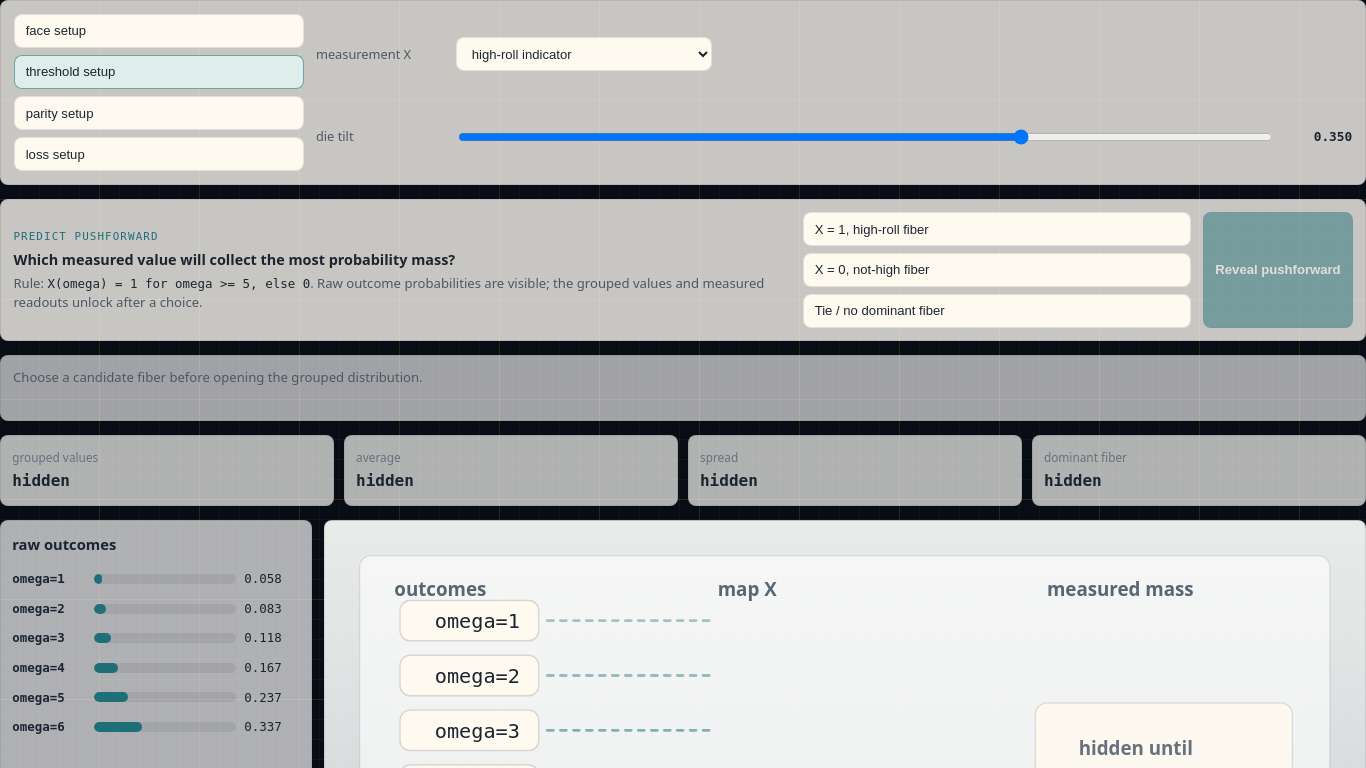
it: RandomVariablesViz prediction reveal › resets the reveal when the measurement setup changes
Click the button "X = 1, high-roll fiber" at coordinates (872, 229), box left=803, top=212, right=1192, bottom=246
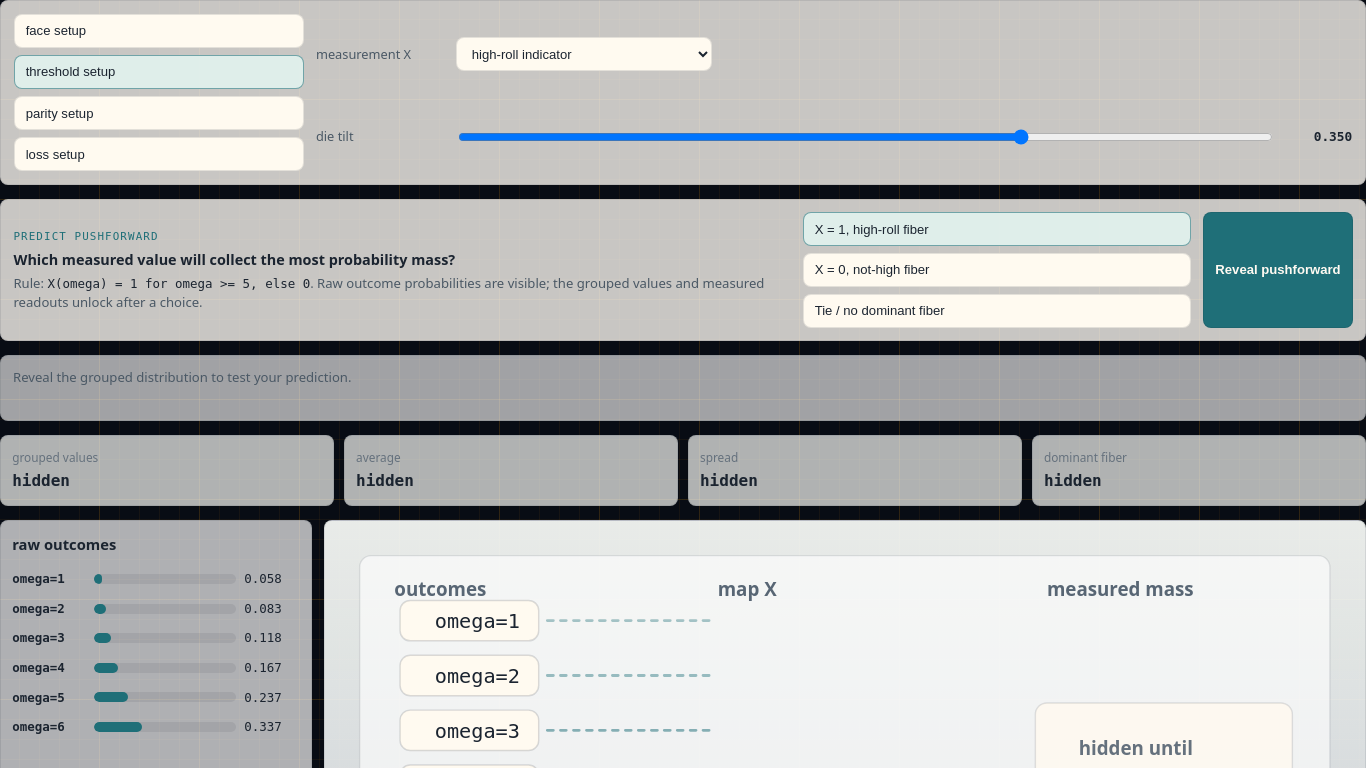
Click the button "Reveal pushforward" at coordinates (1278, 270), box left=1204, top=212, right=1353, bottom=328
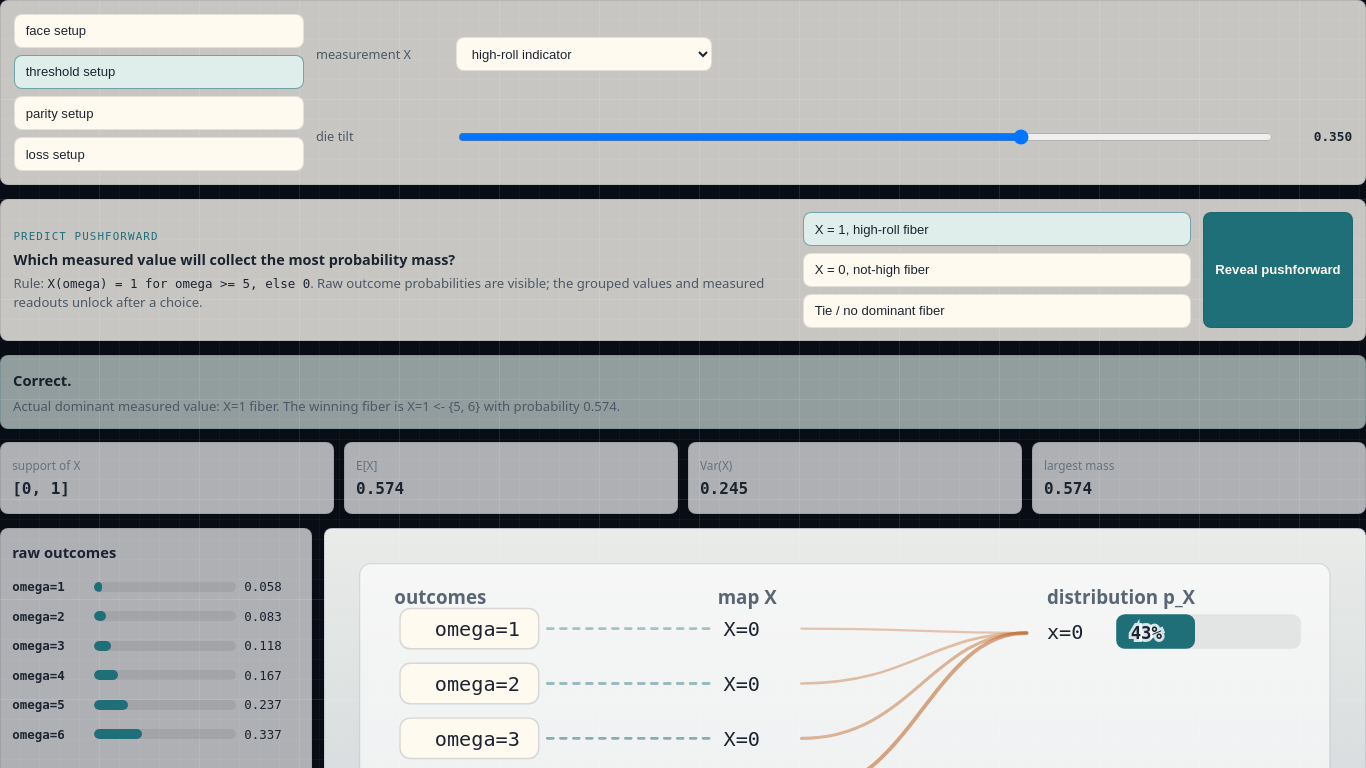
Now the text "support of X" is shown, box left=12, top=456, right=80, bottom=472
Now the text "winning fiber is X=1 <- {5, 6}" is shown, box left=13, top=397, right=620, bottom=415
Click the button "face setup" at coordinates (56, 31), box left=14, top=14, right=304, bottom=48
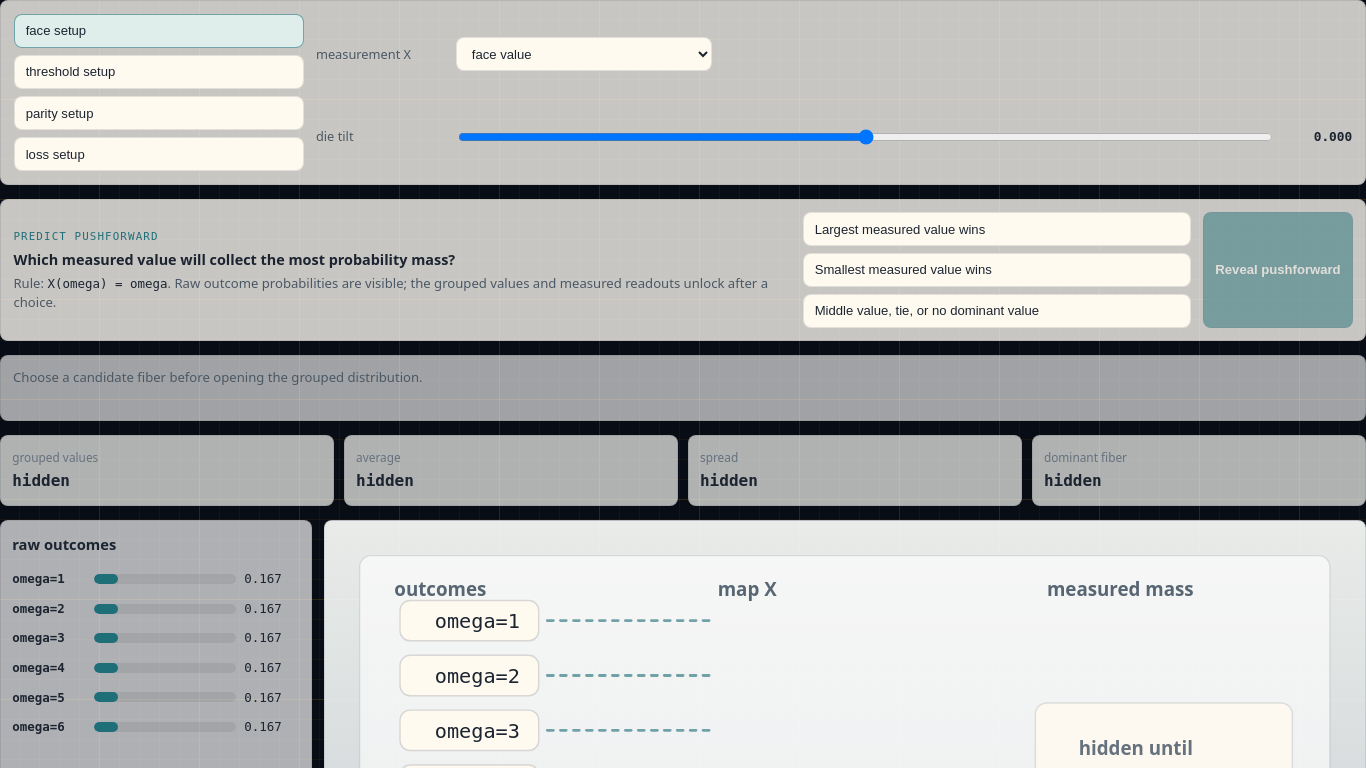
Now the text "support of X" is gone
Now the text "E[X]" is gone
Now the text "Var(X)" is gone
